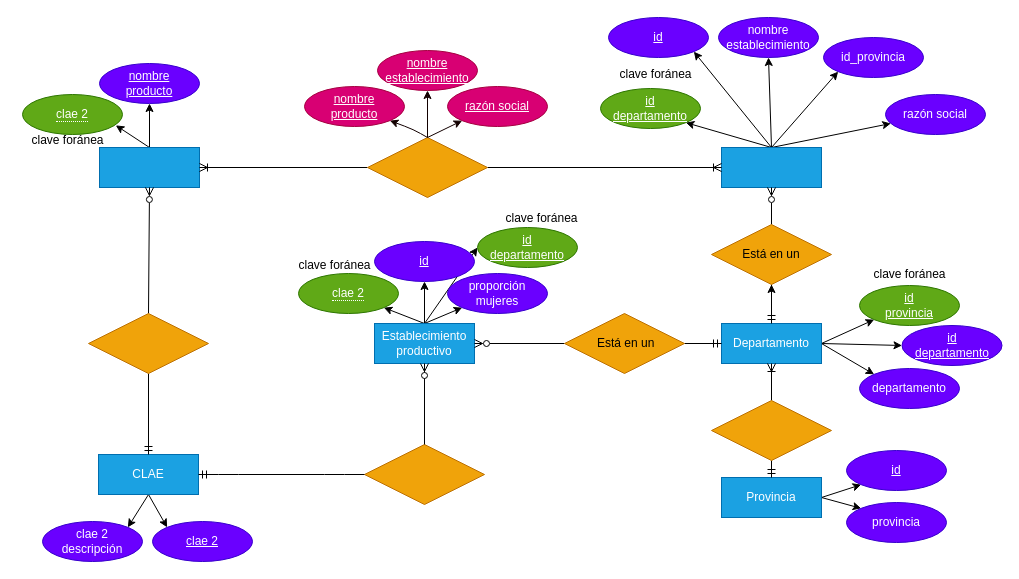
Some shapes in this 1019 by 579 pixel diagram are drawn without their labels. Each missing label, with the centre of its shape:
"Clasifica" belongs at [424,474].
"Es clasificado por" belongs at [148,343].
"Es producido por" belongs at [427,167].
"Está en una" belongs at [771,430].
"Operador orgánico" belongs at [771,167].
"Producto" belongs at [149,167].
